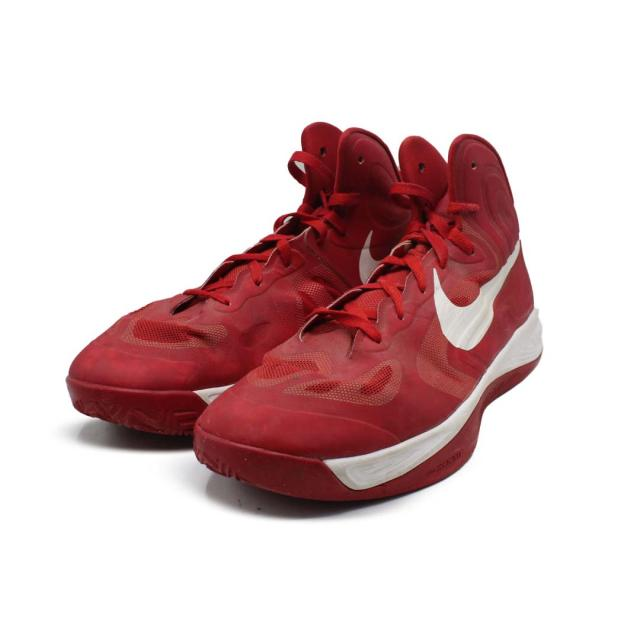midsole: (192, 308, 548, 500), (68, 372, 243, 446)
uppersole: (197, 138, 524, 453), (66, 123, 396, 389)
